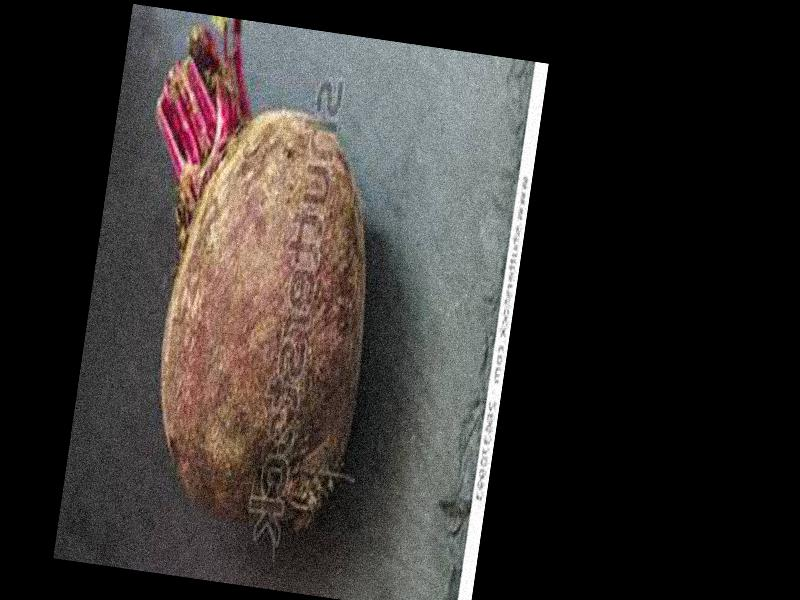Beet: (101, 13, 406, 539)
